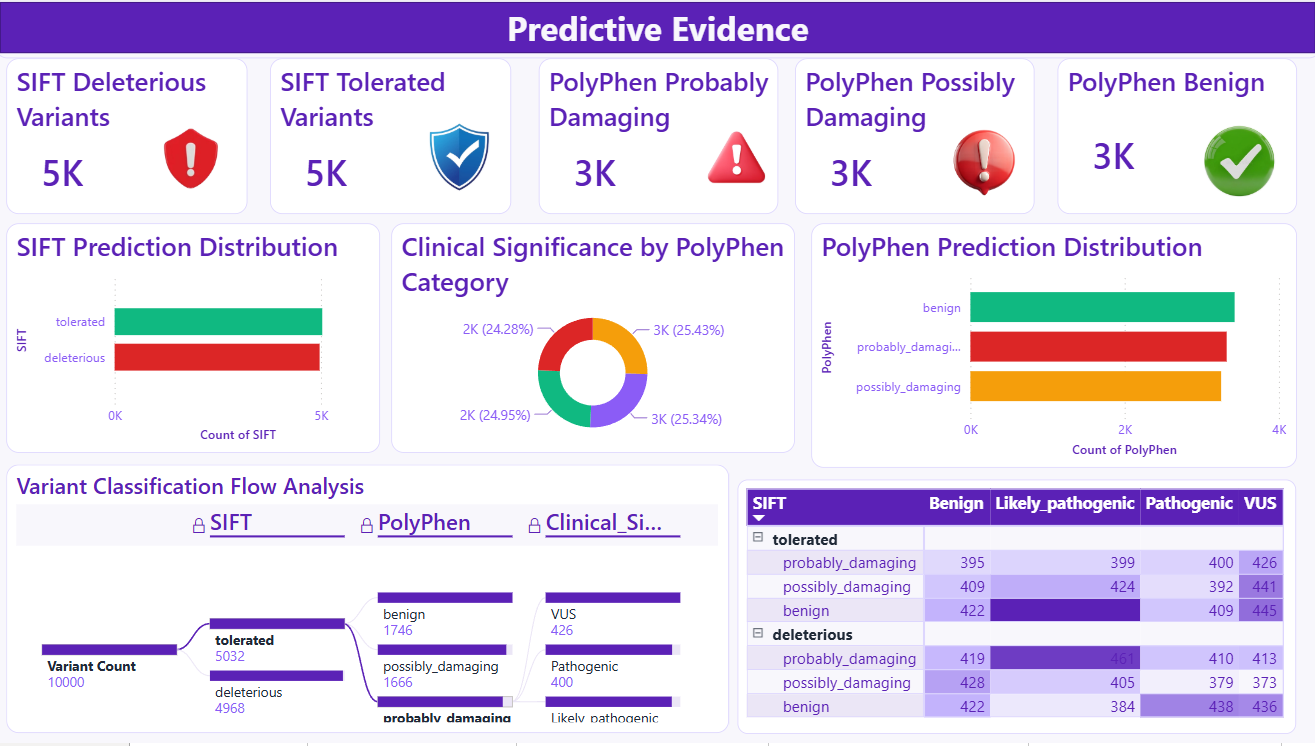

This screenshot's page, from the dashboard's own definition file:
{"tool":"powerbi","page":{"name":"Predictive Evidence Dashboard","canvas":[1280,720],"ordinal":3},"visuals":[{"type":"shape","box":[0,0,1279.7,59.4],"z":0},{"type":"cardVisual","title":"SIFT Deleterious Variants","fields":{"Data":["cancer_variant_prioritization_dataset.SIFT Deleterious"]},"box":[10.9,59.4,232.8,150],"z":1000},{"type":"cardVisual","title":"SIFT Tolerated Variants","fields":{"Data":["cancer_variant_prioritization_dataset.SIFT Tolerated"]},"box":[265.6,59.4,232.8,150],"z":2000},{"type":"cardVisual","title":"PolyPhen Probably Damaging","fields":{"Data":["cancer_variant_prioritization_dataset.PolyPhen Probably Damaging"]},"box":[525,59.4,231.2,150],"z":3000},{"type":"cardVisual","title":"PolyPhen Possibly Damaging","fields":{"Data":["cancer_variant_prioritization_dataset.PolyPhen Possibly Damaging"]},"box":[771.9,59.4,231.2,150],"z":4000},{"type":"cardVisual","title":"PolyPhen Benign","fields":{"Data":["cancer_variant_prioritization_dataset.PolyPhen Benign"]},"box":[1025,59.4,231.2,150],"z":5000},{"type":"barChart","title":"SIFT Prediction Distribution","fields":{"Category":["cancer_variant_prioritization_dataset.SIFT"],"Y":["CountNonNull(cancer_variant_prioritization_dataset.SIFT)"]},"box":[10.9,218.8,360.9,221.9],"z":6000},{"type":"barChart","title":"PolyPhen Prediction Distribution","fields":{"Category":["cancer_variant_prioritization_dataset.PolyPhen"],"Y":["CountNonNull(cancer_variant_prioritization_dataset.PolyPhen)"]},"box":[787.5,218.8,468.8,235.9],"z":7000},{"type":"donutChart","title":"Clinical Significance by PolyPhen Category","fields":{"Category":["cancer_variant_prioritization_dataset.Clinical_Significance"],"Y":["cancer_variant_prioritization_dataset.Count of Clinical Significance"]},"box":[382.4,218.4,389.7,222],"z":8000},{"type":"pivotTable","fields":{"Columns":["cancer_variant_prioritization_dataset.Clinical_Significance"],"Rows":["cancer_variant_prioritization_dataset.SIFT","cancer_variant_prioritization_dataset.PolyPhen"],"Values":["cancer_variant_prioritization_dataset.Variant Count"]},"box":[717.2,465.6,539.1,245.3],"z":9000},{"type":"decompositionTreeVisual","title":"Variant Classification Flow Analysis","fields":{"Analyze":["cancer_variant_prioritization_dataset.Variant Count"],"ExplainBy":["cancer_variant_prioritization_dataset.SIFT","cancer_variant_prioritization_dataset.PolyPhen","cancer_variant_prioritization_dataset.Clinical_Significance"]},"box":[10.9,451.2,697.3,259.4],"z":10000},{"type":"image","box":[142.4,114.6,98.9,79.6],"z":11000},{"type":"image","box":[399.3,114.6,98.9,79.6],"z":12000},{"type":"image","box":[667.2,114.6,98.9,79.6],"z":13000},{"type":"image","box":[904.8,124.3,98.9,70],"z":14000},{"type":"image","box":[1155.8,124.3,91.7,70],"z":15000}]}

Visuals, with their boxes in screenshot pixels (x1, y1, x2, y2), scaled from the page's 1280x720 canvas onto the 1315x746 screenshot:
shape: 0:0:1314:62
"SIFT Deleterious Variants" cardVisual: 11:62:250:217
"SIFT Tolerated Variants" cardVisual: 273:62:512:217
"PolyPhen Probably Damaging" cardVisual: 539:62:777:217
"PolyPhen Possibly Damaging" cardVisual: 793:62:1031:217
"PolyPhen Benign" cardVisual: 1053:62:1291:217
"SIFT Prediction Distribution" barChart: 11:227:382:457
"PolyPhen Prediction Distribution" barChart: 809:227:1291:471
"Clinical Significance by PolyPhen Category" donutChart: 393:226:793:456
pivotTable - cancer_variant_prioritization_dataset.Clinical_Significance x cancer_variant_prioritization_dataset.SIFT: 737:482:1291:737
"Variant Classification Flow Analysis" decompositionTreeVisual: 11:467:728:736
image: 146:119:248:201
image: 410:119:512:201
image: 685:119:787:201
image: 930:129:1031:201
image: 1187:129:1282:201
